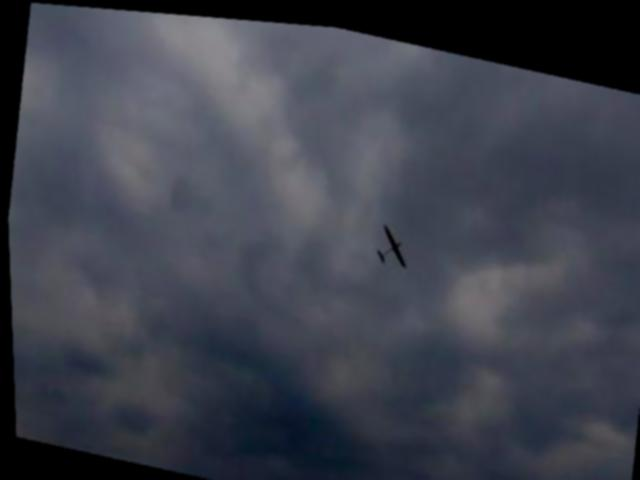uav: (365, 208, 416, 272)
